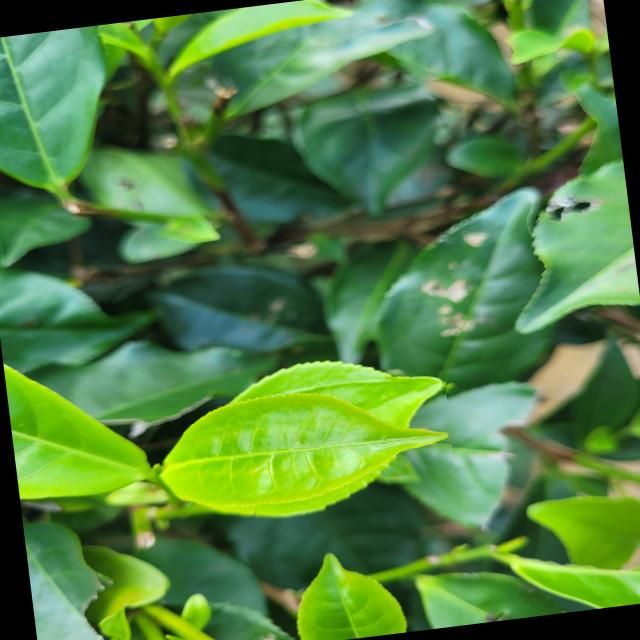Catagory A(1-2 days): (146, 370, 462, 550)
